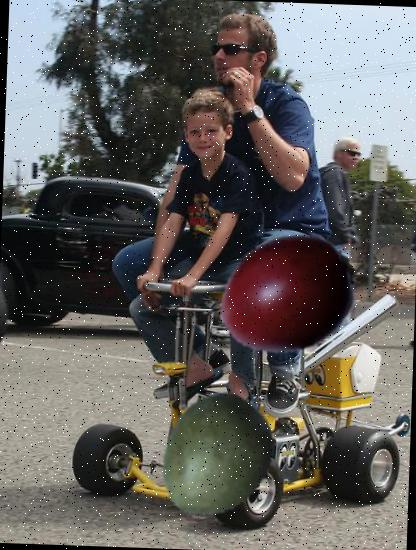Mango: (150, 391, 287, 528)
Tamarillo: (214, 220, 363, 370)
